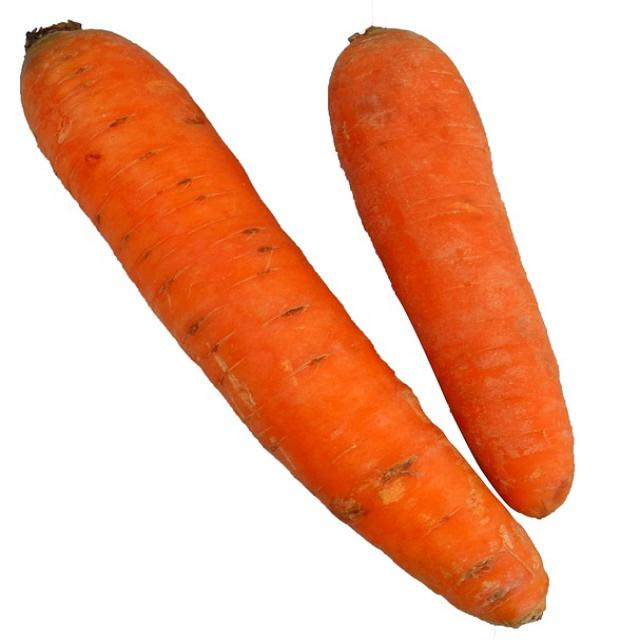Carrot: (3, 21, 576, 634), (314, 24, 591, 526)
